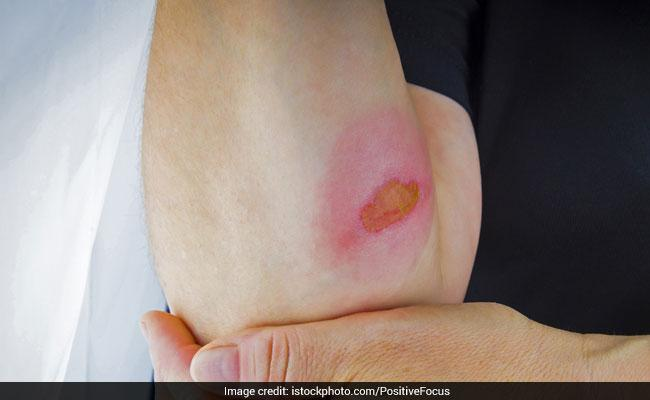burned-skin: (309, 112, 450, 290)
